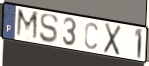1: (134, 28, 144, 61)
3: (62, 17, 79, 48)
C: (84, 21, 99, 51)
M: (15, 8, 40, 43)
S: (39, 13, 60, 44)
X: (102, 21, 123, 57)
